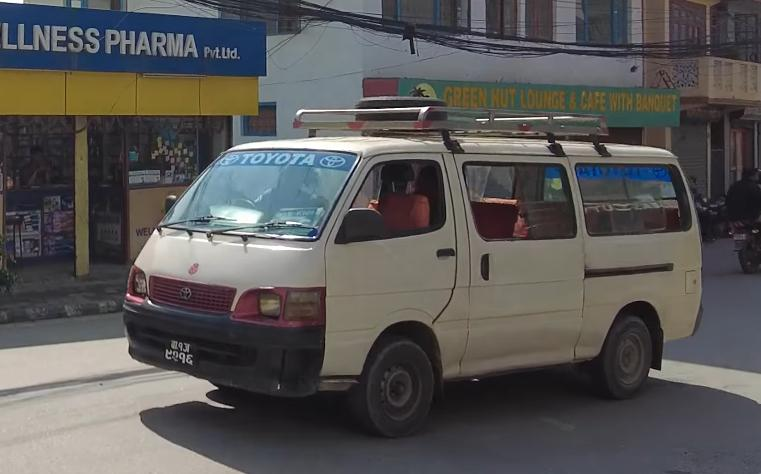van: (119, 94, 716, 449)
